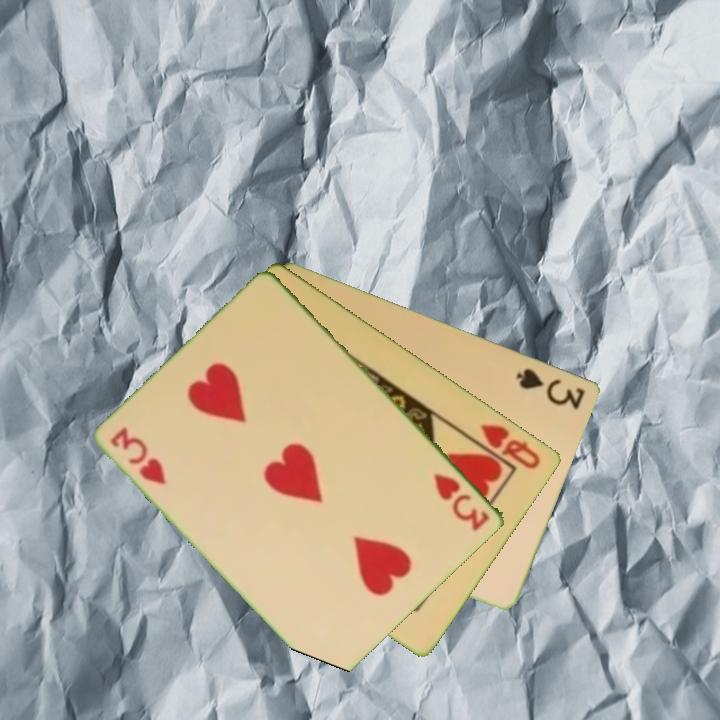3h: (430, 469, 493, 534), (107, 423, 169, 488)
3s: (513, 364, 589, 413)
Qh: (477, 420, 544, 472)
